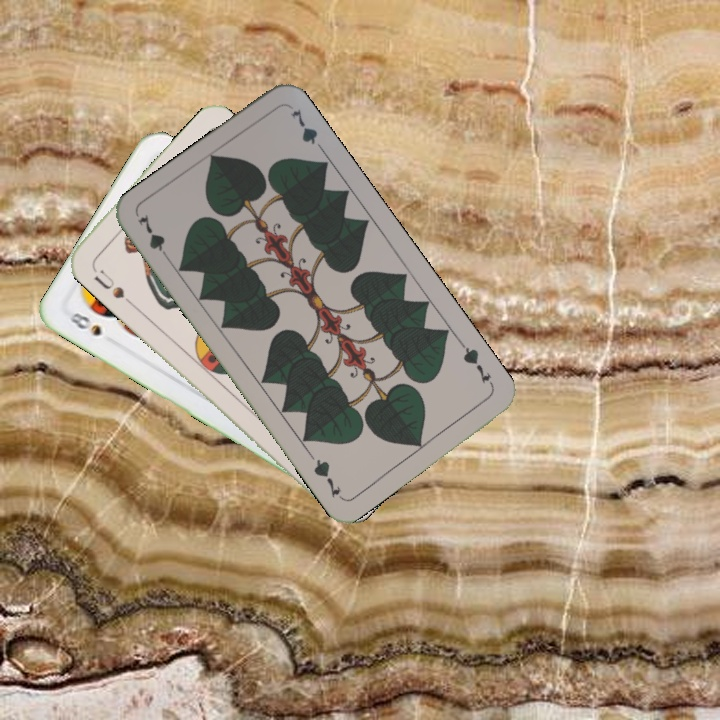G7: (133, 211, 174, 265), (456, 338, 496, 390)
S8: (65, 308, 104, 339)
SU: (90, 265, 127, 301)
